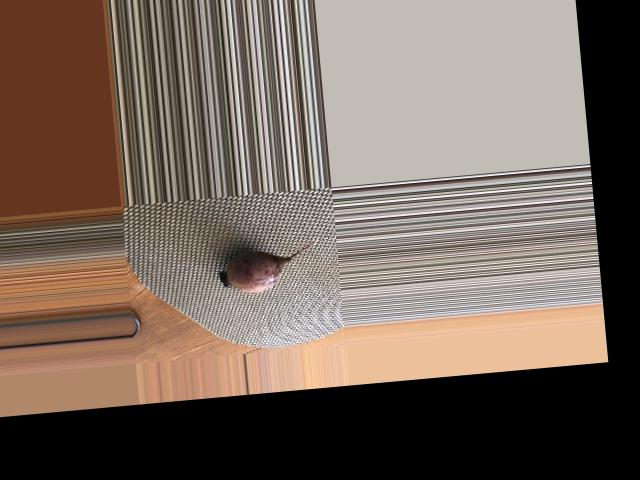beet: (215, 235, 322, 295)
